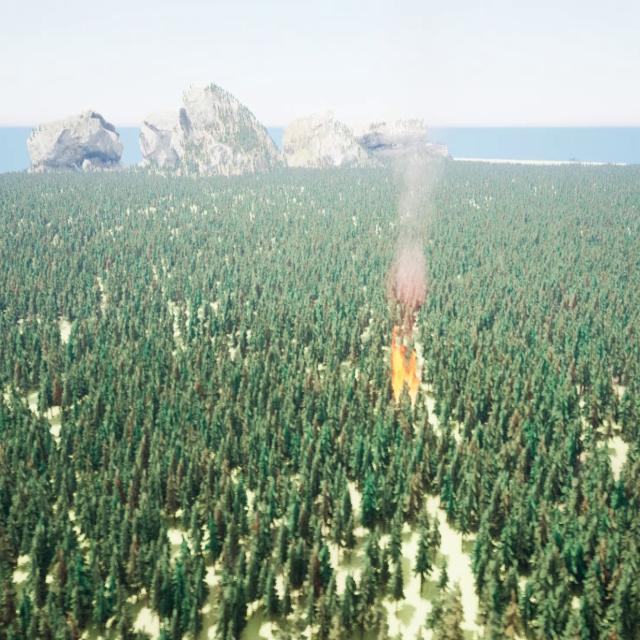fire: (389, 326, 422, 396)
smoke: (388, 121, 437, 322)
